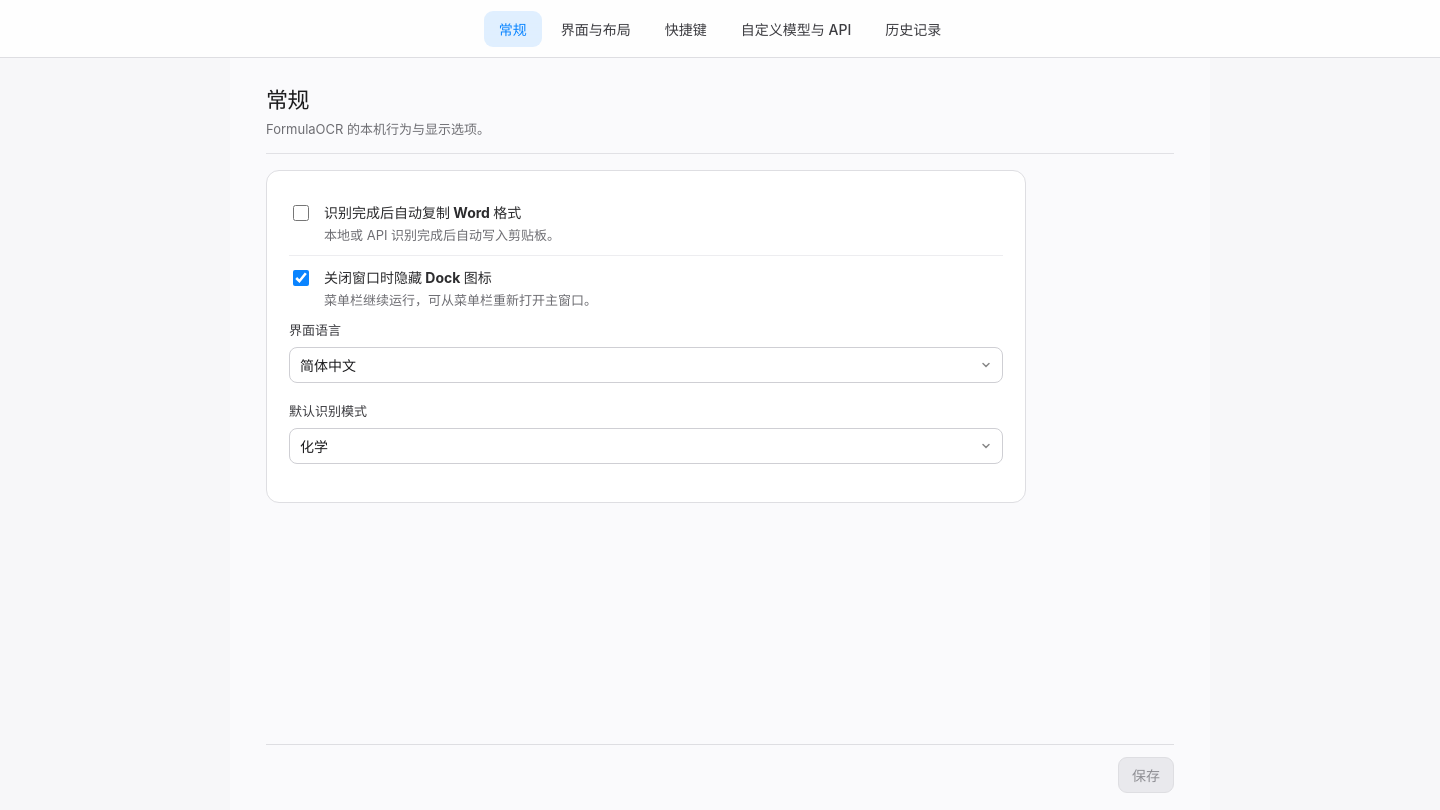
Test: settings interaction › keeps Save and draft after persistence failure
Expected: the element that starts with "识别完成后自动复制 Word 格式" is enabled, top-left (266, 170), bottom-right (1026, 503)
Click the checkbox labelled "识别完成后自动复制 Word 格式 本地或 API 识别完成后自动写入剪贴板。".
click(301, 213)  # box top-left (293, 205), bottom-right (309, 221)
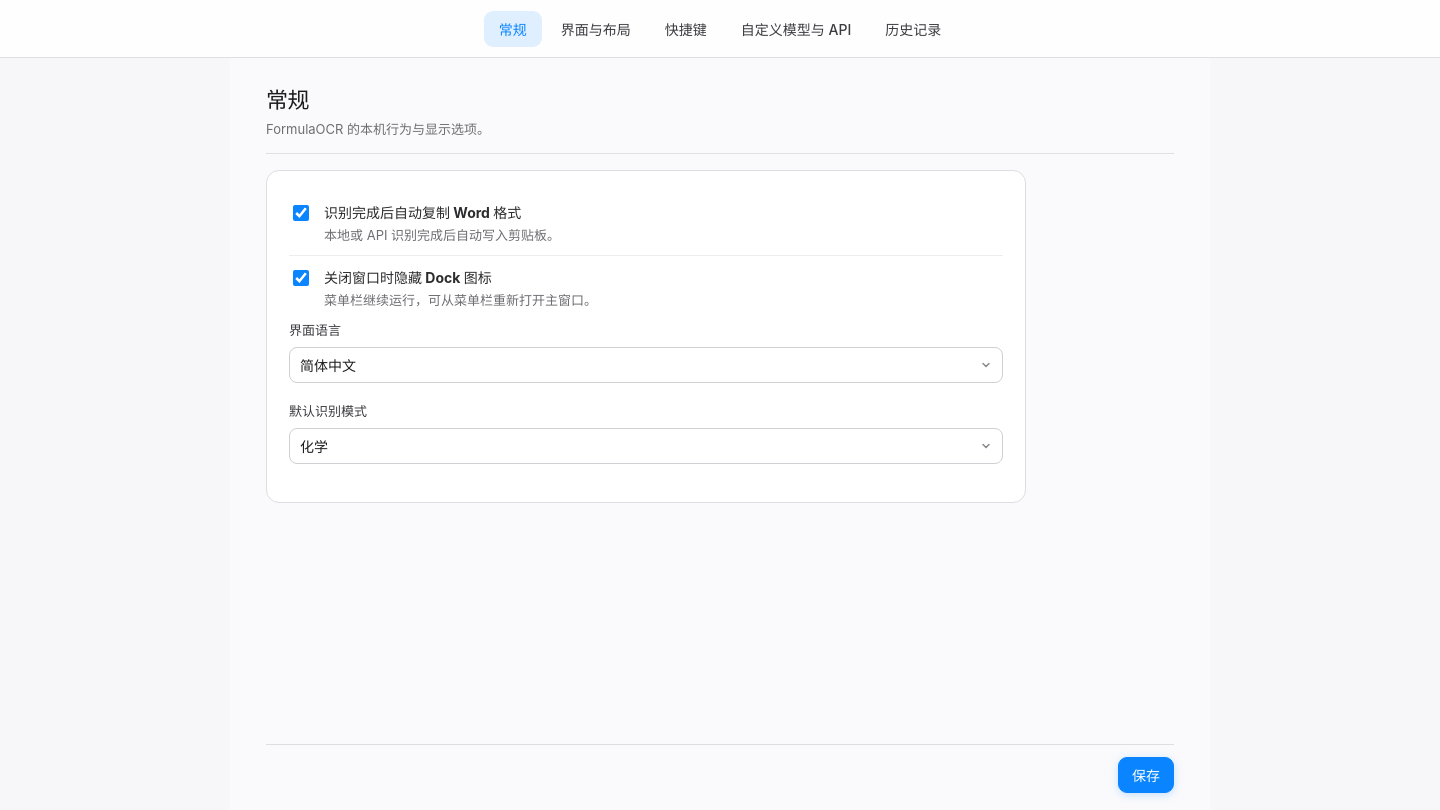
Click the button "保存".
click(1146, 774)  # box top-left (1118, 756), bottom-right (1174, 792)
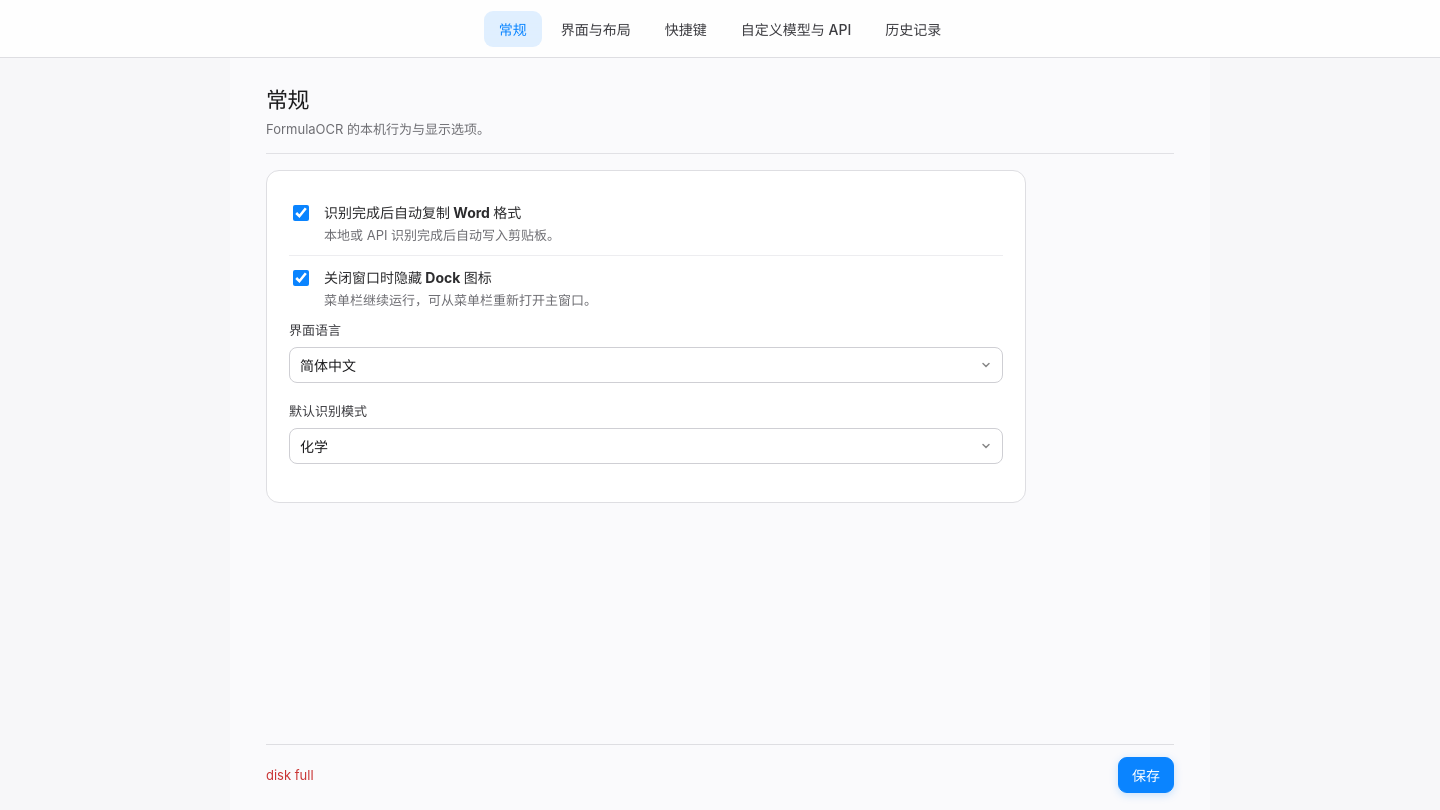
Now the button "保存" is enabled, box top-left (1118, 756), bottom-right (1174, 792)
Now the text "disk full" is shown, box top-left (266, 766), bottom-right (314, 782)
